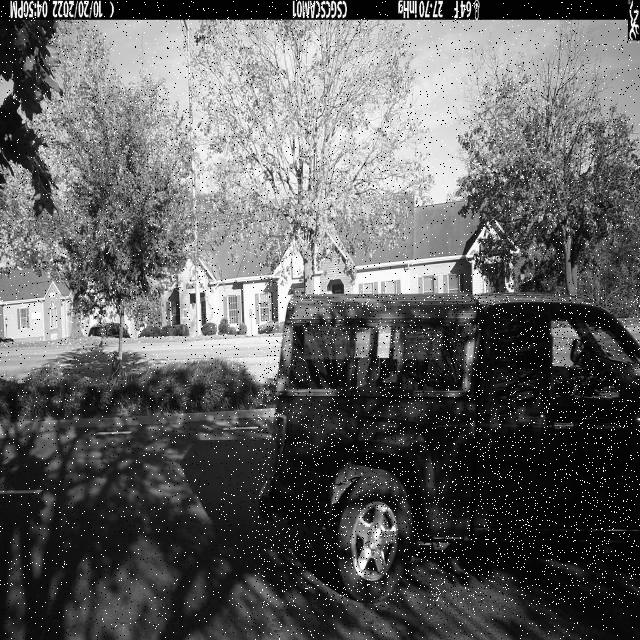Pickup: (258, 294, 640, 607)
